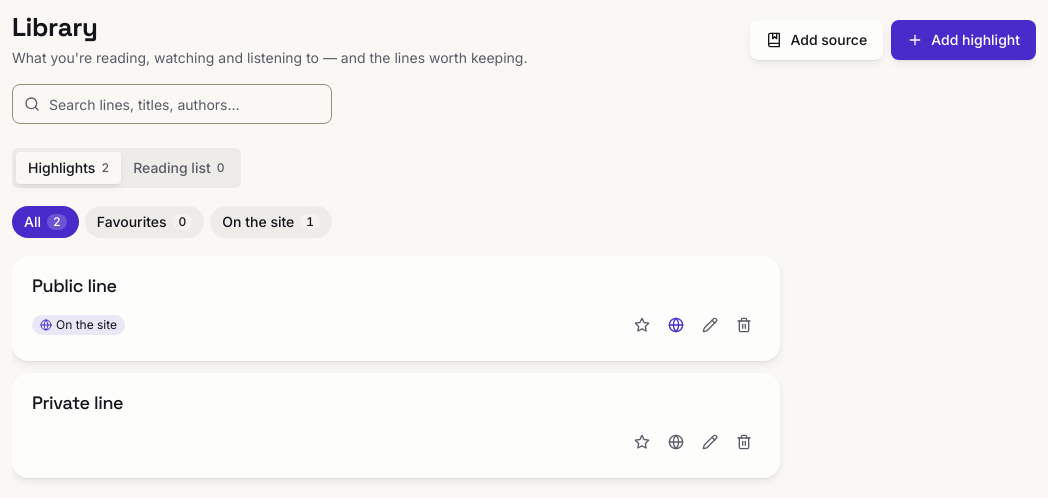
Scenario: LibraryPage — highlights › narrows to the lines on the site
Click the button "On the site 1". click: (271, 222)
box: x1=210 y1=206 x2=332 y2=238
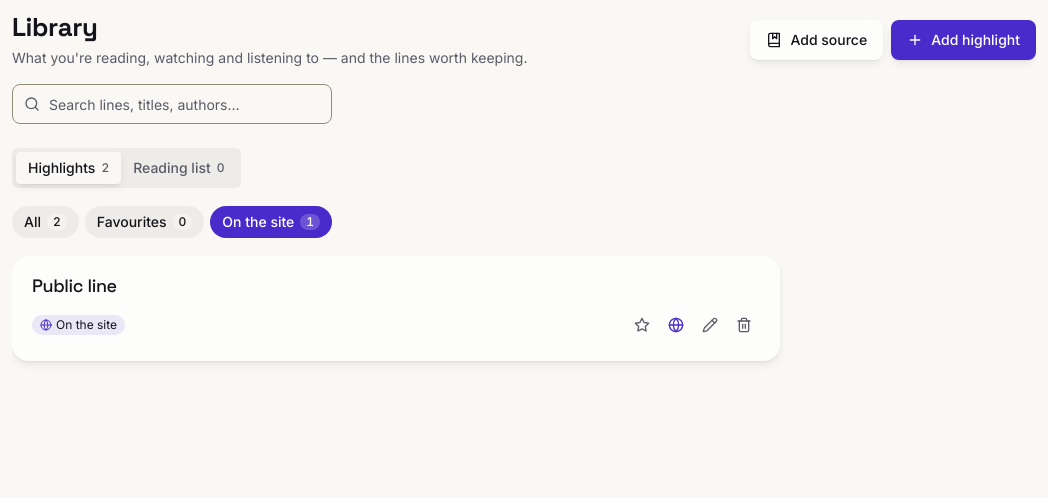
Expected: the text "Public line" is shown, x1=32 y1=274 x2=117 y2=297
Result: the text "Private line" is gone
